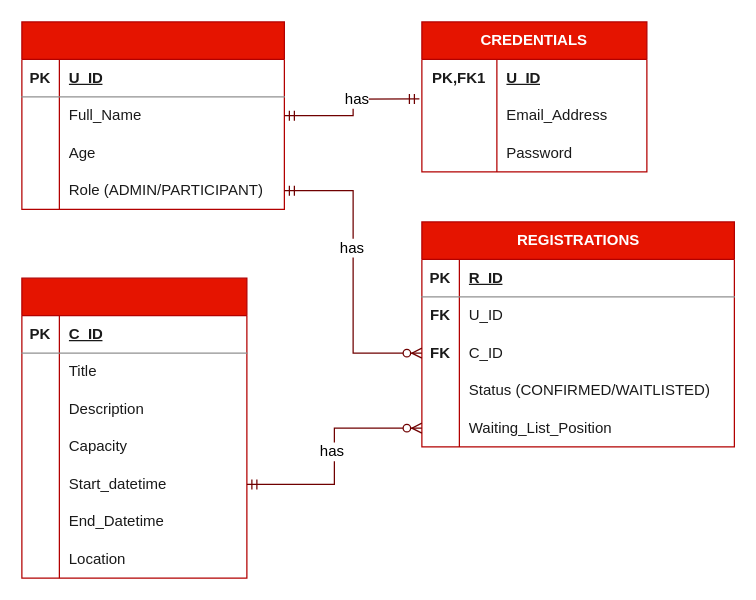
Image size: 756x600. Some labels were removed from this diagram. Each missing label, with the box of its shape:
CONFERENCES: (21, 277, 247, 578)
USERS: (21, 21, 284, 209)
